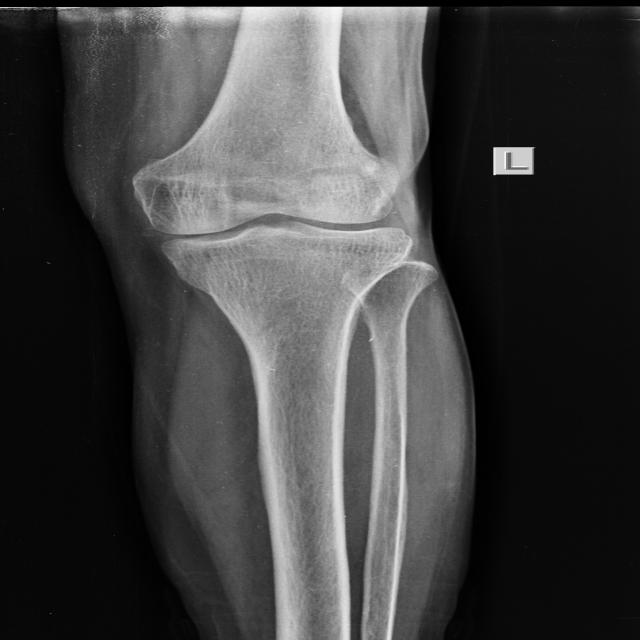osteo: (127, 153, 411, 270)
